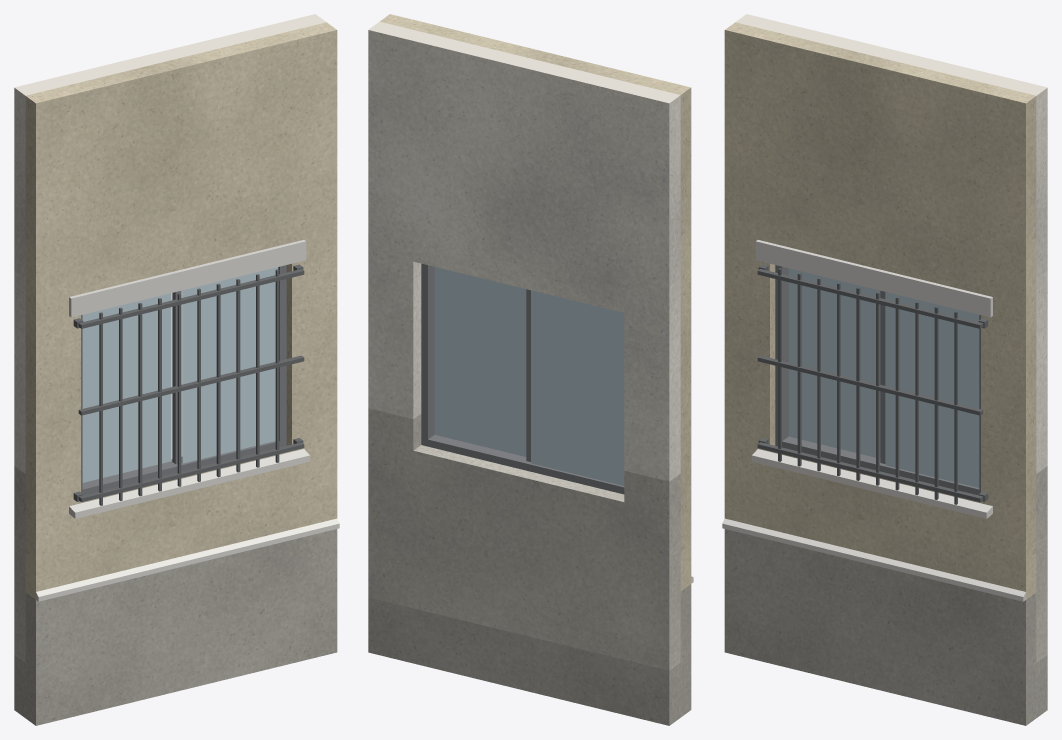
Rendered from o_win.glb.
3 renders of one model, left to right at view 1: azimuth 30°, elevation 25°; view 2: azimuth 150°, elevation 25°; view 3: azimuth 330°, elevation 25°, orthographic.
Visible parts, largest first — view 1: o_win_render, o_win_concrete, o_win_glass, o_win_iron, o_win_coping, o_win_plaster, o_win_frame, o_win_tile_a; view 2: o_win_plaster, o_win_tile_a, o_win_glass, o_win_concrete, o_win_render, o_win_frame; view 3: o_win_render, o_win_concrete, o_win_glass, o_win_iron, o_win_coping, o_win_plaster, o_win_frame, o_win_tile_a.
Part boxes in pixels (box(x1,y1,x2,y2)): o_win_render: box(25, 22, 337, 599); o_win_concrete: box(14, 529, 337, 725); o_win_glass: box(82, 267, 278, 482); o_win_iron: box(73, 264, 304, 505); o_win_coping: box(36, 240, 339, 601); o_win_plaster: box(14, 14, 326, 473); o_win_frame: box(81, 265, 286, 495); o_win_tile_a: box(14, 456, 182, 662); o_win_plaster: box(368, 21, 680, 481); o_win_tile_a: box(368, 408, 680, 670); o_win_glass: box(434, 267, 624, 485); o_win_concrete: box(368, 584, 691, 725); o_win_render: box(380, 14, 691, 591); o_win_frame: box(421, 263, 624, 494); o_win_render: box(724, 22, 1036, 599); o_win_concrete: box(724, 529, 1047, 725); o_win_glass: box(788, 268, 979, 487); o_win_iron: box(757, 264, 988, 504); o_win_coping: box(722, 240, 1025, 601); o_win_plaster: box(735, 14, 1047, 473); o_win_frame: box(775, 265, 980, 495); o_win_tile_a: box(1036, 466, 1047, 662).
Size of the model in its own units: 2 by 3.95 by 0.324.
Materials: 8 (4 with a texture image).
